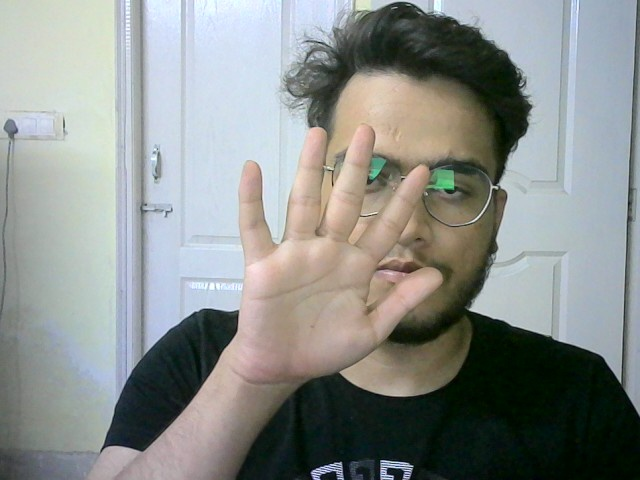Hello: (232, 118, 444, 388)
